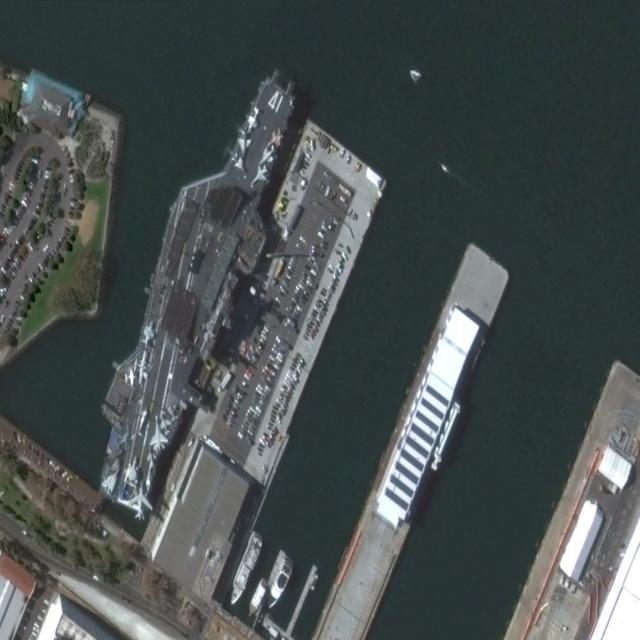Aircraft Carrier: (73, 35, 319, 535)
Yacht: (225, 528, 267, 612), (264, 551, 296, 612), (246, 575, 271, 622)
